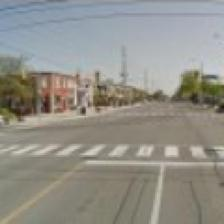crosswalk: (10, 130, 222, 182)
